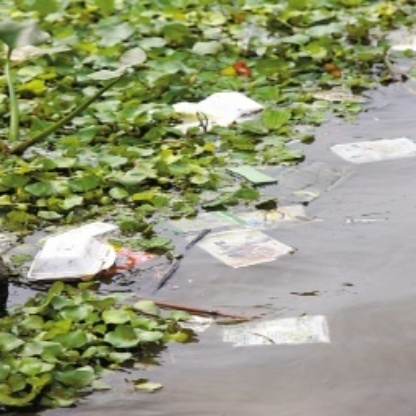plastic-bag: (178, 211, 300, 270), (329, 133, 416, 163)
plastic-garbage: (27, 234, 121, 283)
